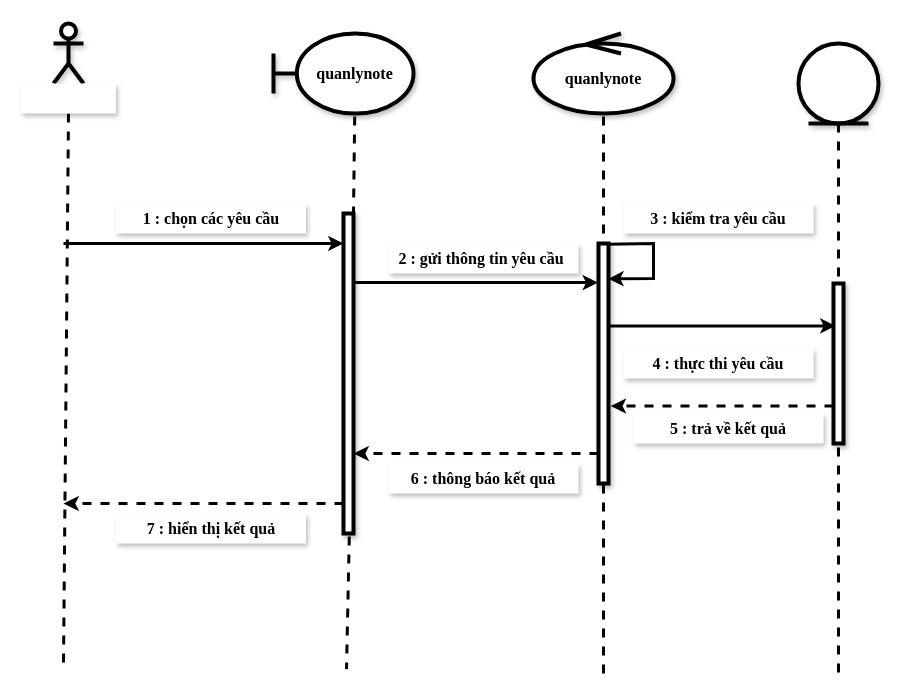
Some shapes in this 904 by 693 pixel diagram are drawn without their labels. Each missing label, with the centre of its shape:
"Actor" goes at [69,54].
"csdl" goes at [839,84].
"khachhang" goes at [69,99].
